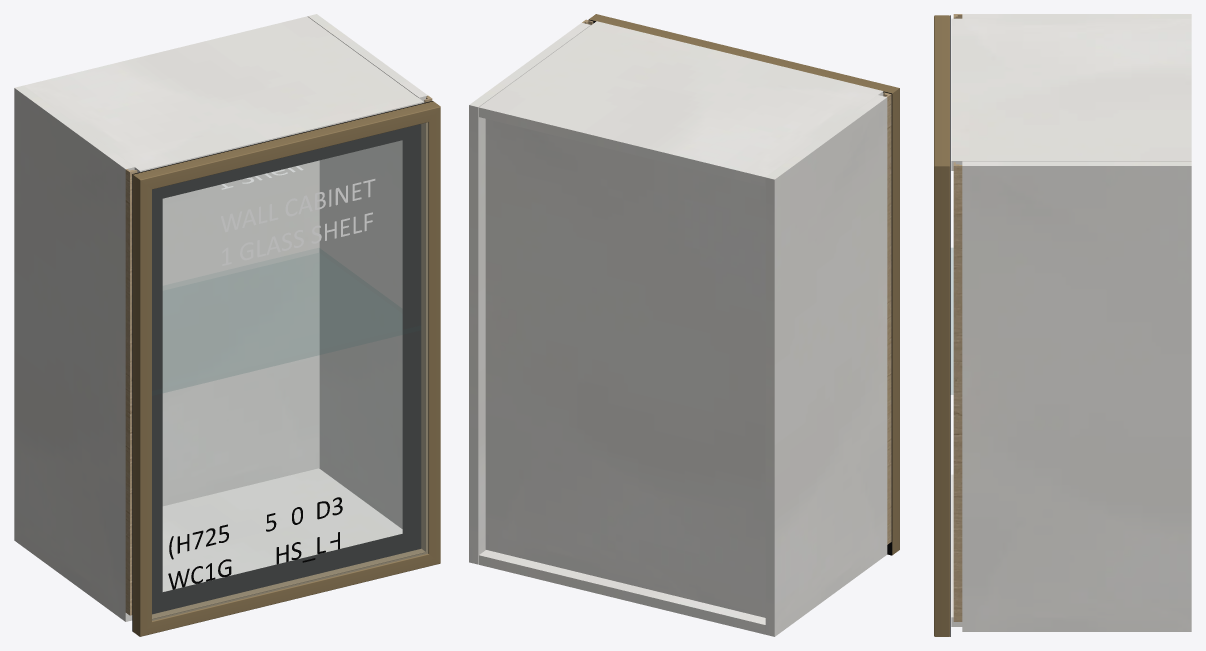
File: WC-SH-NHX-GL-1SG-LHS-XXX-500-725-336-15.glb
3 renders of one model, left to right at view 1: azimuth 30°, elevation 25°; view 2: azimuth 150°, elevation 25°; view 3: azimuth 270°, elevation 25°, orthographic. The views are drawn at different scales.
Parts seen in each view (by area): view 1: Object_node_4, TP_node_0, TP_node_2, TP, TP_node_1, Neon 22 Profile ALU PROF NEON 20 L21XH22.5MM 3MTR S2/405 SEC (×4), Object_node_6, TP_node, Object_node_8, 2D text_node, 2D text_node_0, 2D text; view 2: TP_node_2, TP_node_0, TP, TP_node_1, Neon 22 Profile ALU PROF NEON 20 L21XH22.5MM 3MTR S2/405 SEC (×2), TP_node, Object_node_8, Object_node_6; view 3: TP_node_1, TP, Neon 22 Profile ALU PROF NEON 20 L21XH22.5MM 3MTR S2/405 SEC (×2), Object_node_16, TP_node_0, Object_node_6, TP_node.
Boxes of the visible parts, <box> form: Object_node_4: <box>152,122,427,620</box>; TP_node_0: <box>14,85,134,621</box>; TP_node_2: <box>162,160,319,506</box>; TP: <box>23,16,423,172</box>; TP_node_1: <box>307,14,427,528</box>; Neon 22 Profile ALU PROF NEON 20 L21XH22.5MM 3MTR S2/405 SEC (×4): <box>133,101,440,636</box>; Object_node_6: <box>132,101,432,631</box>; TP_node: <box>162,468,402,591</box>; Object_node_8: <box>125,169,137,615</box>; 2D text_node: <box>221,179,375,265</box>; 2D text_node_0: <box>169,497,342,559</box>; 2D text: <box>168,532,339,589</box>; TP_node_2: <box>485,119,765,617</box>; TP_node_0: <box>765,95,887,636</box>; TP: <box>479,21,883,186</box>; TP_node_1: <box>469,22,590,564</box>; Neon 22 Profile ALU PROF NEON 20 L21XH22.5MM 3MTR S2/405 SEC (×2): <box>589,14,899,554</box>; TP_node: <box>479,550,765,634</box>; Object_node_8: <box>883,92,891,544</box>; Object_node_6: <box>588,19,892,555</box>; TP_node_1: <box>962,161,1191,631</box>; TP: <box>951,18,1191,170</box>; Neon 22 Profile ALU PROF NEON 20 L21XH22.5MM 3MTR S2/405 SEC (×2): <box>934,15,949,636</box>; Object_node_16: <box>953,162,962,621</box>; TP_node_0: <box>962,14,1191,18</box>; Object_node_6: <box>950,15,950,636</box>; TP_node: <box>951,474,962,626</box>.
Size of what is drawn, in the model's own units: 0.5 by 0.7235 by 0.366.
Materials: 8 (2 with a texture image).
